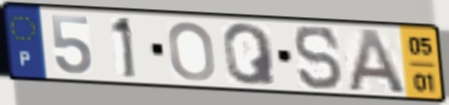1: (109, 16, 139, 81)
5: (48, 13, 94, 76)
A: (346, 27, 410, 96)
O: (166, 19, 218, 83)
Q: (220, 21, 280, 87)
S: (292, 24, 346, 92)
